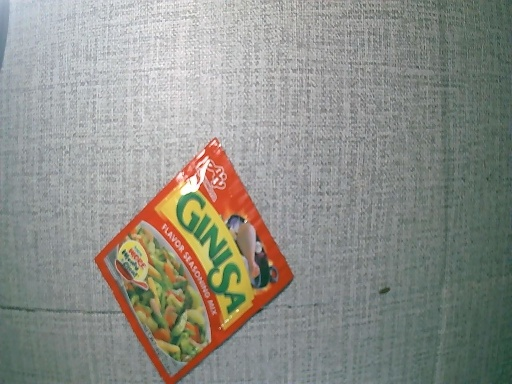plastic: (93, 138, 293, 384)
